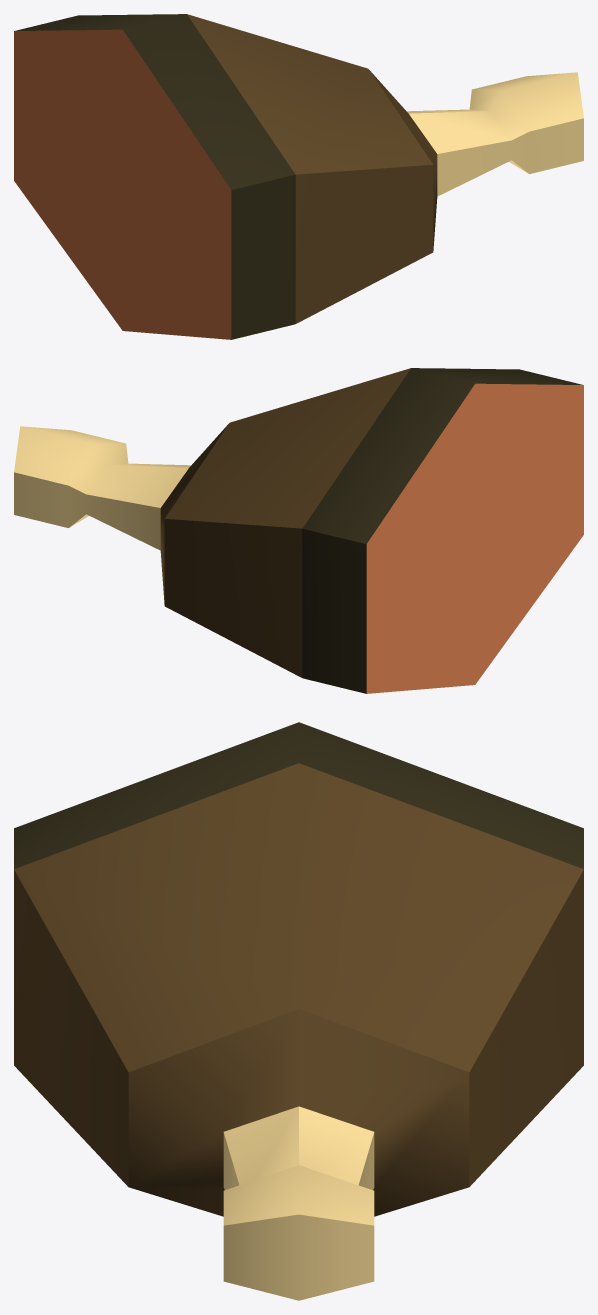
File: hamfree.fbx
3 renders of one model, top to bottom at view 1: azimuth 30°, elevation 25°; view 2: azimuth 150°, elevation 25°; view 3: azimuth 270°, elevation 25°, orthographic. The views are drawn at different scales.
Visible parts, largest first — view 1: ham; view 2: ham; view 3: ham.
Part boxes in pixels (x1,y1,x2,y2): ham: (14, 14, 583, 339); ham: (14, 368, 583, 693); ham: (14, 722, 583, 1300).
Size of the model in its own units: 0.125 by 0.0791 by 0.1035.
